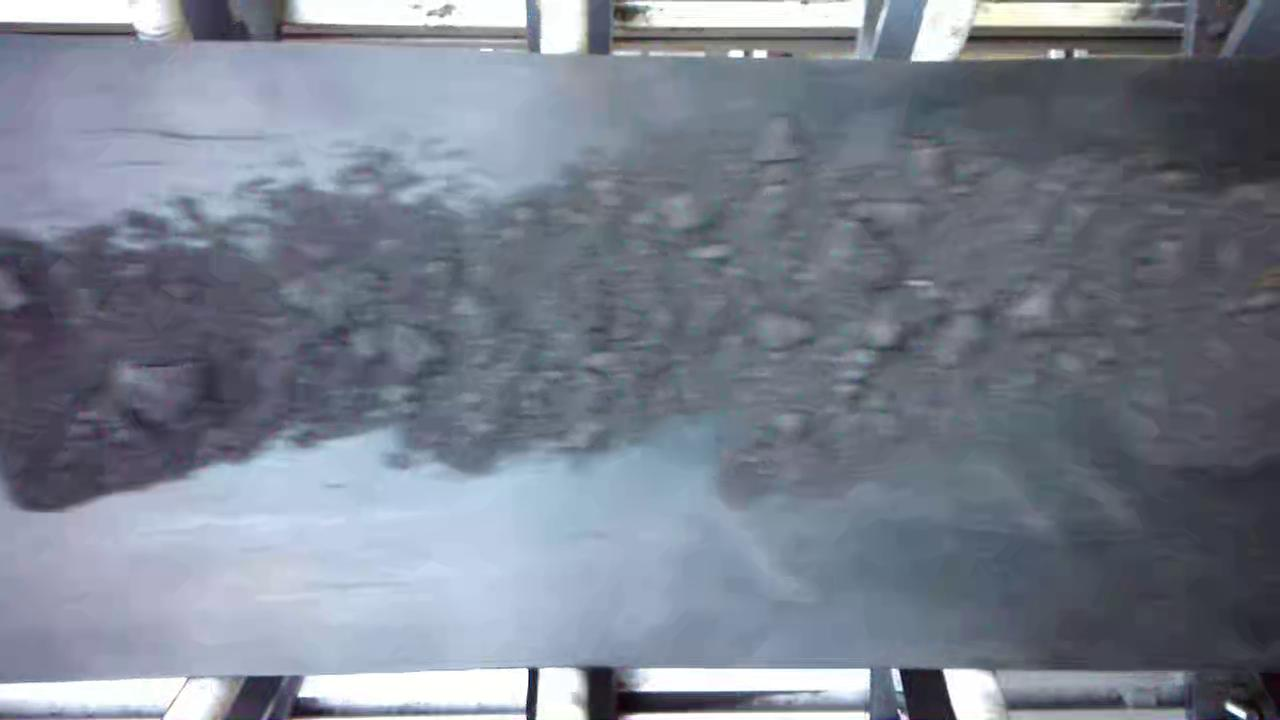conveyor: (3, 61, 1280, 660)
